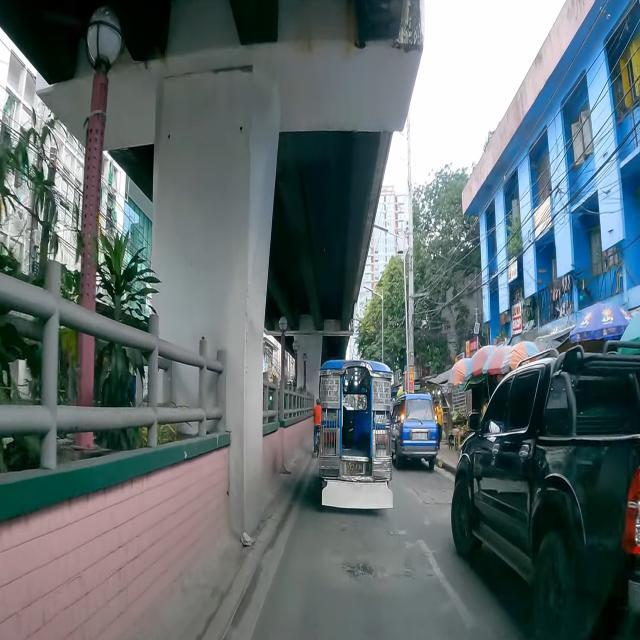bike: (314, 400, 322, 456)
car: (451, 344, 640, 640), (392, 390, 439, 470)
jeepney: (318, 361, 393, 508)
